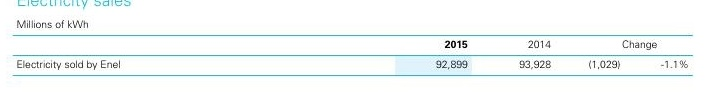table: (0, 0, 712, 92)
